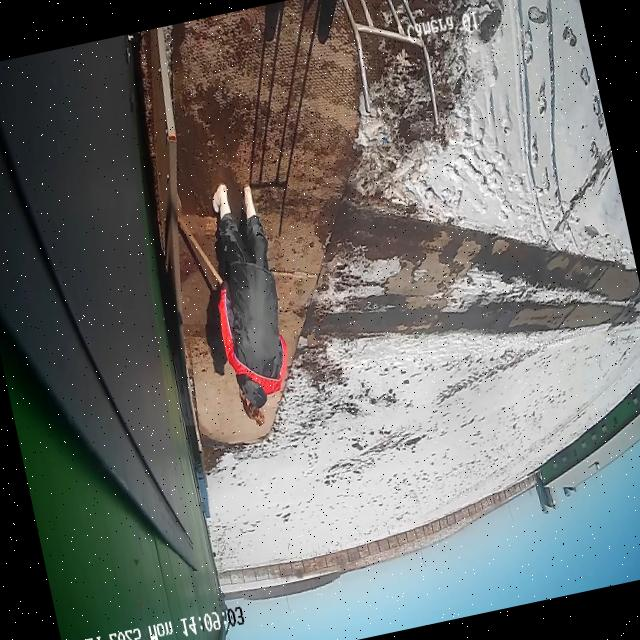Red uniform: (194, 201, 302, 412)
